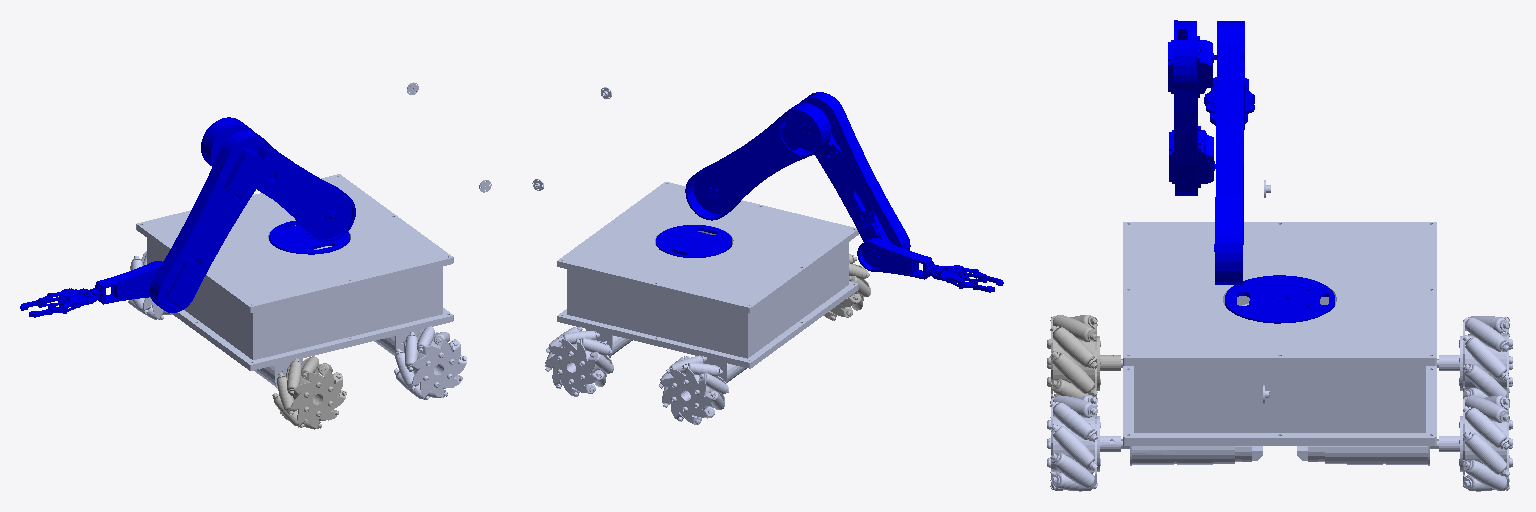
robot.urdf — URDF___:
<?xml version="1.0" encoding="utf-8"?>
<!-- This URDF was automatically created by SolidWorks to URDF Exporter! Originally created by [author] ([email redacted]) 
     Commit Version: 1.6.0-4-g7f85cfe  Build Version: 1.6.7995.38578
     For more information, please see http://wiki.ros.org/sw_urdf_exporter -->
<robot
  name="URDF___">
  <link
    name="base_link">
    <inertial>
      <origin
        xyz="-0.00405596510534162 -8.35681439853575E-06 0.0261742150252001"
        rpy="0 0 0" />
      <mass
        value="2.73561143246653" />
      <inertia
        ixx="0.0221972066308063"
        ixy="3.05734168376215E-10"
        ixz="-5.80748843512715E-06"
        iyy="0.0221847224219223"
        iyz="5.11435242237354E-12"
        izz="0.043239086557537" />
    </inertial>
    <visual>
      <origin
        xyz="0 0 0"
        rpy="0 0 0" />
      <geometry>
        <mesh
          filename="package://URDF___/meshes/base_link.STL" />
      </geometry>
      <material
        name="">
        <color
          rgba="0.792156862745098 0.819607843137255 0.933333333333333 1" />
      </material>
    </visual>
    <collision>
      <origin
        xyz="0 0 0"
        rpy="0 0 0" />
      <geometry>
        <mesh
          filename="package://URDF___/meshes/base_link.STL" />
      </geometry>
    </collision>
  </link>
  <link
    name="Banhxe">
    <inertial>
      <origin
        xyz="-0.00418978253380978 -1.37437949909724E-10 0.0260711442925828"
        rpy="0 0 0" />
      <mass
        value="2.73416861251952" />
      <inertia
        ixx="0.0221971725884675"
        ixy="1.0716189302675E-11"
        ixz="-5.80748843512724E-06"
        iyy="0.0221846626589164"
        iyz="5.11435270845892E-12"
        izz="0.0432390525185816" />
    </inertial>
    <visual>
      <origin
        xyz="0 0 0"
        rpy="0 0 0" />
      <geometry>
        <mesh
          filename="package://URDF___/meshes/Banhxe.STL" />
      </geometry>
      <material
        name="">
        <color
          rgba="0.792156862745098 0.819607843137255 0.933333333333333 1" />
      </material>
    </visual>
    <collision>
      <origin
        xyz="0 0 0"
        rpy="0 0 0" />
      <geometry>
        <mesh
          filename="package://URDF___/meshes/Banhxe.STL" />
      </geometry>
    </collision>
  </link>
  <joint
    name="banhxe"
    type="fixed">
    <origin
      xyz="0 0 0"
      rpy="0 0 0" />
    <parent
      link="base_link" />
    <child
      link="Banhxe" />
    <axis
      xyz="0 0 0" />
  </joint>
  <link
    name="L_truoc">
    <inertial>
      <origin
        xyz="1.88433393627507E-06 -2.13624641787202E-06 0.0262772387104297"
        rpy="0 0 0" />
      <mass
        value="0.278706565052666" />
      <inertia
        ixx="8.31166401480294E-05"
        ixy="-2.65441218575858E-09"
        ixz="-5.45136974802306E-09"
        iyy="8.31172485781589E-05"
        iyz="6.11241292855609E-09"
        izz="9.70244078929607E-05" />
    </inertial>
    <visual>
      <origin
        xyz="0 0 0"
        rpy="0 0 0" />
      <geometry>
        <mesh
          filename="package://URDF___/meshes/L_truoc.STL" />
      </geometry>
      <material
        name="">
        <color
          rgba="0.792156862745098 0.819607843137255 0.933333333333333 1" />
      </material>
    </visual>
    <collision>
      <origin
        xyz="0 0 0"
        rpy="0 0 0" />
      <geometry>
        <mesh
          filename="package://URDF___/meshes/L_truoc.STL" />
      </geometry>
    </collision>
  </link>
  <joint
    name="L_truoc"
    type="continuous">
    <origin
      xyz="0.098 0.2484 -0.031"
      rpy="1.5708 0 0" />
    <parent
      link="Banhxe" />
    <child
      link="L_truoc" />
    <axis
      xyz="0 0 1" />
  </joint>
  <link
    name="L_sau">
    <inertial>
      <origin
        xyz="2.01072800331409E-06 -2.03076308410988E-06 0.0262772387104536"
        rpy="0 0 0" />
      <mass
        value="0.278706565052627" />
      <inertia
        ixx="8.31169189185509E-05"
        ixy="-2.67166258158781E-09"
        ixz="-5.76351123862844E-09"
        iyy="8.31169698065327E-05"
        iyz="5.81914316175128E-09"
        izz="9.70244078918405E-05" />
    </inertial>
    <visual>
      <origin
        xyz="0 0 0"
        rpy="0 0 0" />
      <geometry>
        <mesh
          filename="package://URDF___/meshes/L_sau.STL" />
      </geometry>
      <material
        name="">
        <color
          rgba="0.792156862745098 0.819607843137255 0.933333333333333 1" />
      </material>
    </visual>
    <collision>
      <origin
        xyz="0 0 0"
        rpy="0 0 0" />
      <geometry>
        <mesh
          filename="package://URDF___/meshes/L_sau.STL" />
      </geometry>
    </collision>
  </link>
  <joint
    name="L_sau"
    type="continuous">
    <origin
      xyz="-0.109 0.2484 -0.031"
      rpy="1.5708 0 0" />
    <parent
      link="Banhxe" />
    <child
      link="L_sau" />
    <axis
      xyz="0 0 1" />
  </joint>
  <link
    name="R_truoc">
    <inertial>
      <origin
        xyz="-2.20874240475233E-06 -1.77048583158146E-06 -0.0263998689010846"
        rpy="0 0 0" />
      <mass
        value="0.278706565052654" />
      <inertia
        ixx="8.31175538211208E-05"
        ixy="2.60134616042799E-09"
        ixz="-6.41777761542442E-09"
        iyy="8.31163349050889E-05"
        iyz="-5.08832060980675E-09"
        izz="9.7024407892957E-05" />
    </inertial>
    <visual>
      <origin
        xyz="0 0 0"
        rpy="0 0 0" />
      <geometry>
        <mesh
          filename="package://URDF___/meshes/R_truoc.STL" />
      </geometry>
      <material
        name="">
        <color
          rgba="0.792156862745098 0.819607843137255 0.933333333333333 1" />
      </material>
    </visual>
    <collision>
      <origin
        xyz="0 0 0"
        rpy="0 0 0" />
      <geometry>
        <mesh
          filename="package://URDF___/meshes/R_truoc.STL" />
      </geometry>
    </collision>
  </link>
  <joint
    name="R_truoc"
    type="continuous">
    <origin
      xyz="0.098 -0.2484 -0.031"
      rpy="1.5708 0 0" />
    <parent
      link="Banhxe" />
    <child
      link="R_truoc" />
    <axis
      xyz="0 0 1" />
  </joint>
  <link
    name="R_sau">
    <inertial>
      <origin
        xyz="8.61094076355651E-07 -2.69663845789414E-06 -0.0263998689011268"
        rpy="0 0 0" />
      <mass
        value="0.278706565052669" />
      <inertia
        ixx="8.31147505320892E-05"
        ixy="-1.52497254584395E-09"
        ixz="2.44979715786847E-09"
        iyy="8.31191381940595E-05"
        iyz="-7.81523703246055E-09"
        izz="9.70244078929343E-05" />
    </inertial>
    <visual>
      <origin
        xyz="0 0 0"
        rpy="0 0 0" />
      <geometry>
        <mesh
          filename="package://URDF___/meshes/R_sau.STL" />
      </geometry>
      <material
        name="">
        <color
          rgba="0.752941176470588 0.752941176470588 0.752941176470588 1" />
      </material>
    </visual>
    <collision>
      <origin
        xyz="0 0 0"
        rpy="0 0 0" />
      <geometry>
        <mesh
          filename="package://URDF___/meshes/R_sau.STL" />
      </geometry>
    </collision>
  </link>
  <joint
    name="R_sau"
    type="fixed">
    <origin
      xyz="-0.109 -0.2484 -0.031"
      rpy="1.5708 0 0" />
    <parent
      link="Banhxe" />
    <child
      link="R_sau" />
    <axis
      xyz="0 0 0" />
  </joint>
  <link
    name="Canhtay">
    <inertial>
      <origin
        xyz="-0.0278263223311903 6.55031584528842E-15 -0.00350000000001216"
        rpy="0 0 0" />
      <mass
        value="0.534098766226502" />
      <inertia
        ixx="0.00566428588992574"
        ixy="8.48087174128761E-19"
        ixz="1.76598786924598E-20"
        iyy="0.00596374884636165"
        iyz="-1.95172123468629E-17"
        izz="0.0116258093247614" />
    </inertial>
    <visual>
      <origin
        xyz="0 0 0"
        rpy="0 0 0" />
      <geometry>
        <mesh
          filename="package://URDF___/meshes/Canhtay.STL" />
      </geometry>
      <material
        name="">
        <color
          rgba="0.792156862745098 0.819607843137255 0.933333333333333 1" />
      </material>
    </visual>
    <collision>
      <origin
        xyz="0 0 0"
        rpy="0 0 0" />
      <geometry>
        <mesh
          filename="package://URDF___/meshes/Canhtay.STL" />
      </geometry>
    </collision>
  </link>
  <joint
    name="Canhtay"
    type="fixed">
    <origin
      xyz="0.0194999999999916 0 0.106000000000012"
      rpy="0 0 0" />
    <parent
      link="base_link" />
    <child
      link="Canhtay" />
    <axis
      xyz="0 0 0" />
  </joint>
  <link
    name="khau1">
    <inertial>
      <origin
        xyz="-4.13493137806642E-05 0.0003628985350001 -0.00250000000001199"
        rpy="0 0 0" />
      <mass
        value="0.0524164347503489" />
      <inertia
        ixx="4.35239434716306E-05"
        ixy="-1.53048139557481E-08"
        ixz="-6.43941732541486E-23"
        iyy="5.05858137786502E-05"
        iyz="-1.52453914850745E-19"
        izz="9.38913554388211E-05" />
    </inertial>
    <visual>
      <origin
        xyz="0 0 0"
        rpy="0 0 0" />
      <geometry>
        <mesh
          filename="package://URDF___/meshes/khau1.STL" />
      </geometry>
      <material
        name="">
        <color
          rgba="0 0 1 1" />
      </material>
    </visual>
    <collision>
      <origin
        xyz="0 0 0"
        rpy="0 0 0" />
      <geometry>
        <mesh
          filename="package://URDF___/meshes/khau1.STL" />
      </geometry>
    </collision>
  </link>
  <joint
    name="khau1"
    type="continuous">
    <origin
      xyz="0 0 0"
      rpy="0 0 0" />
    <parent
      link="Canhtay" />
    <child
      link="khau1" />
    <axis
      xyz="0 0 1" />
  </joint>
  <link
    name="khau2">
    <inertial>
      <origin
        xyz="0.0754192447353981 0.0819748072322959 0.0162654952316923"
        rpy="0 0 0" />
      <mass
        value="0.284275041348943" />
      <inertia
        ixx="0.000986453032212979"
        ixy="-0.00071788915821828"
        ixz="1.02539426013537E-05"
        iyy="0.0008140254904589"
        iyz="1.17367739168481E-05"
        izz="0.00175409877571628" />
    </inertial>
    <visual>
      <origin
        xyz="0 0 0"
        rpy="0 0 0" />
      <geometry>
        <mesh
          filename="package://URDF___/meshes/khau2.STL" />
      </geometry>
      <material
        name="">
        <color
          rgba="0 0 1 1" />
      </material>
    </visual>
    <collision>
      <origin
        xyz="0 0 0"
        rpy="0 0 0" />
      <geometry>
        <mesh
          filename="package://URDF___/meshes/khau2.STL" />
      </geometry>
    </collision>
  </link>
  <joint
    name="khau2"
    type="revolute">
    <origin
      xyz="-0.00045871 -0.039997 0.06"
      rpy="1.5708 -1.5708 0" />
    <parent
      link="khau1" />
    <child
      link="khau2" />
    <axis
      xyz="0 0.011468 0.99993" />
    <limit
      lower="0"
      upper="0"
      effort="0"
      velocity="0" />
  </joint>
  <link
    name="khau3">
    <inertial>
      <origin
        xyz="-0.0903540730407635 0.0603235284991488 0.0615387166898664"
        rpy="0 0 0" />
      <mass
        value="0.460302710763701" />
      <inertia
        ixx="0.000762703145032567"
        ixy="0.000827120040717837"
        ixz="-4.47070596710686E-06"
        iyy="0.00147062311375389"
        iyz="4.30485739181548E-06"
        izz="0.00213447948516437" />
    </inertial>
    <visual>
      <origin
        xyz="0 0 0"
        rpy="0 0 0" />
      <geometry>
        <mesh
          filename="package://URDF___/meshes/khau3.STL" />
      </geometry>
      <material
        name="">
        <color
          rgba="0 0 1 1" />
      </material>
    </visual>
    <collision>
      <origin
        xyz="0 0 0"
        rpy="0 0 0" />
      <geometry>
        <mesh
          filename="package://URDF___/meshes/khau3.STL" />
      </geometry>
    </collision>
  </link>
  <joint
    name="khau3"
    type="revolute">
    <origin
      xyz="0.1494 0.16823 -0.0019294"
      rpy="0 0 0" />
    <parent
      link="khau2" />
    <child
      link="khau3" />
    <axis
      xyz="0 0.011468 0.99993" />
    <limit
      lower="0"
      upper="0"
      effort="0"
      velocity="0" />
  </joint>
  <link
    name="khau4">
    <inertial>
      <origin
        xyz="-0.000434491045975427 0.0740939185399341 0.00965834317844519"
        rpy="0 0 0" />
      <mass
        value="0.0790924496184435" />
      <inertia
        ixx="6.34828717573092E-05"
        ixy="4.23666834492303E-07"
        ixz="-8.57233891032023E-09"
        iyy="1.22369184838237E-05"
        iyz="1.10049802553249E-06"
        izz="6.90040323712839E-05" />
    </inertial>
    <visual>
      <origin
        xyz="0 0 0"
        rpy="0 0 0" />
      <geometry>
        <mesh
          filename="package://URDF___/meshes/khau4.STL" />
      </geometry>
      <material
        name="">
        <color
          rgba="0 0 1 1" />
      </material>
    </visual>
    <collision>
      <origin
        xyz="0 0 0"
        rpy="0 0 0" />
      <geometry>
        <mesh
          filename="package://URDF___/meshes/khau4.STL" />
      </geometry>
    </collision>
  </link>
  <joint
    name="khau4"
    type="revolute">
    <origin
      xyz="-0.18781 0.12402 0.0085784"
      rpy="0 0 0" />
    <parent
      link="khau3" />
    <child
      link="khau4" />
    <axis
      xyz="0 0.011468 0.99993" />
    <limit
      lower="0"
      upper="0"
      effort="0"
      velocity="0" />
  </joint>
</robot>

--- What the picture shows (computed from the rendered views, not written in the file) ---
The picture shows the robot from 3 angles, left to right: view 1: azimuth 30°, elevation 25°; view 2: azimuth 150°, elevation 25°; view 3: azimuth 270°, elevation 25°; orthographic projection.
Model URDF___ with 11 links and 10 joints (3 revolute, 4 continuous, 3 fixed), rooted at base_link, posed every joint at zero.
Visible links, largest first — view 1: base_link, khau3, khau2, R_truoc, R_sau, khau4, Canhtay, khau1, L_sau; view 2: base_link, khau2, khau3, Canhtay, L_truoc, L_sau, khau4, khau1, R_sau; view 3: base_link, khau2, khau3, L_truoc, R_truoc, R_sau, L_sau, khau1, khau4.
Link boxes in pixels (x1,y1,x2,y2): base_link: [136, 82, 491, 388]; khau3: [150, 130, 272, 312]; khau2: [201, 117, 355, 241]; R_truoc: [394, 326, 466, 399]; R_sau: [272, 356, 346, 429]; khau4: [20, 261, 162, 317]; Canhtay: [209, 198, 318, 288]; khau1: [269, 221, 349, 254]; L_sau: [128, 251, 172, 319]; base_link: [532, 87, 858, 382]; khau2: [685, 103, 830, 220]; khau3: [799, 92, 910, 250]; Canhtay: [589, 225, 834, 299]; L_truoc: [545, 327, 613, 396]; L_sau: [659, 355, 728, 424]; khau4: [857, 238, 1003, 292]; khau1: [656, 225, 731, 257]; R_sau: [824, 254, 870, 320]; base_link: [1109, 180, 1438, 465]; khau2: [1214, 21, 1244, 284]; khau3: [1168, 20, 1216, 195]; L_truoc: [1439, 395, 1512, 491]; R_truoc: [1047, 395, 1120, 491]; R_sau: [1047, 315, 1120, 406]; L_sau: [1439, 316, 1512, 407]; khau1: [1225, 275, 1334, 323]; khau4: [1204, 77, 1254, 125].
Size in the robot's own frame: 0.8218 by 0.5048 by 0.4391 metres.
Meshes: 11 distinct files referenced, 11 mesh visuals loaded (11 binary STL).
